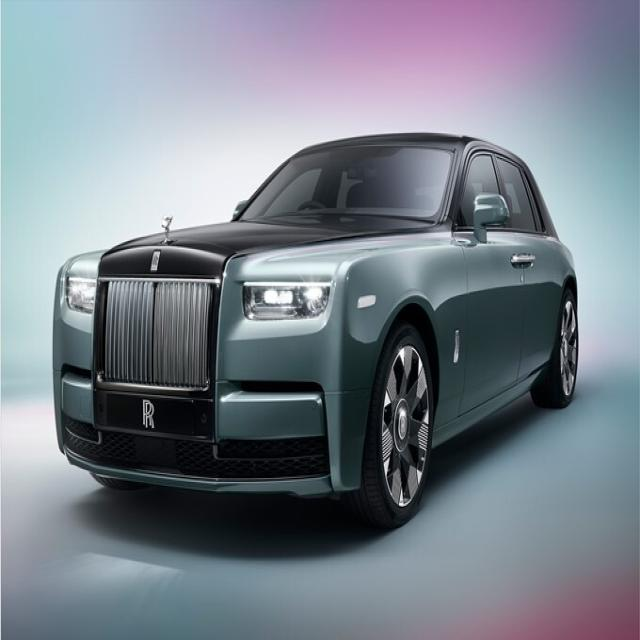car: (57, 132, 575, 500)
